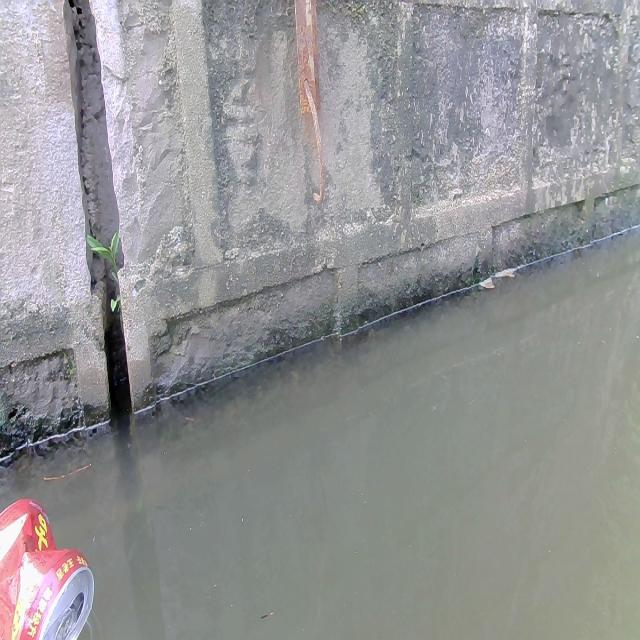bottle: (0, 500, 94, 639)
